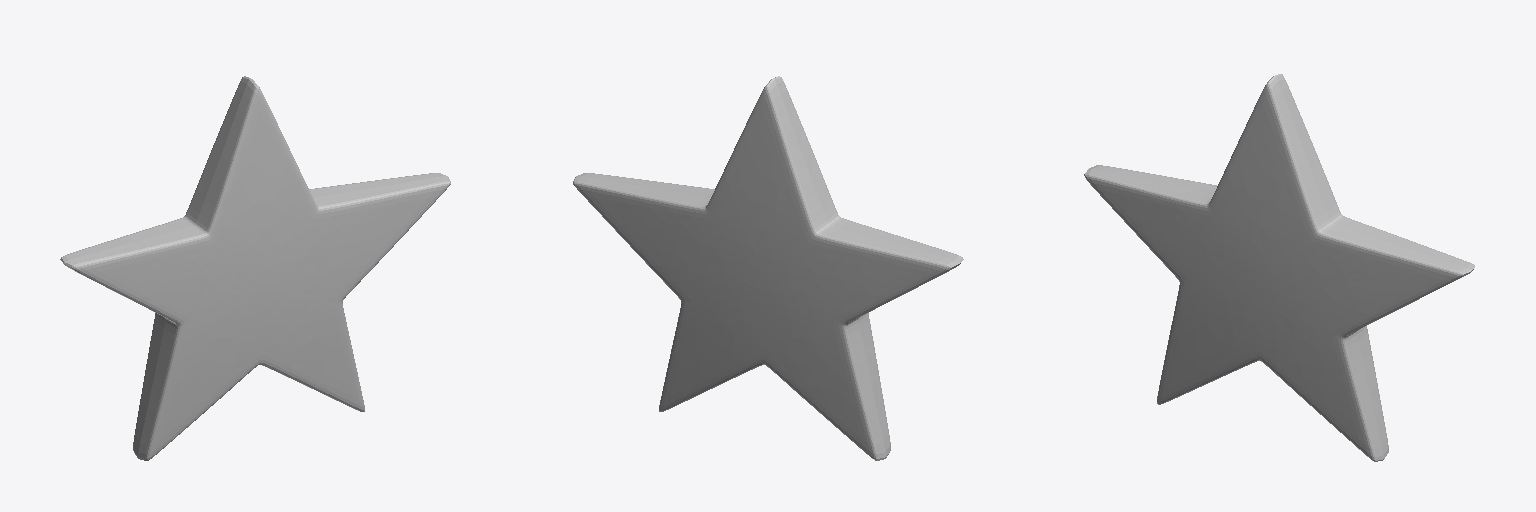
Rendered from star.obj.
The picture shows the model from 3 angles: view 1: azimuth 30°, elevation 25°; view 2: azimuth 150°, elevation 25°; view 3: azimuth 330°, elevation 25°; orthographic projection.
Bounding box in the file's own units: 93.73 × 83.39 × 12.07.